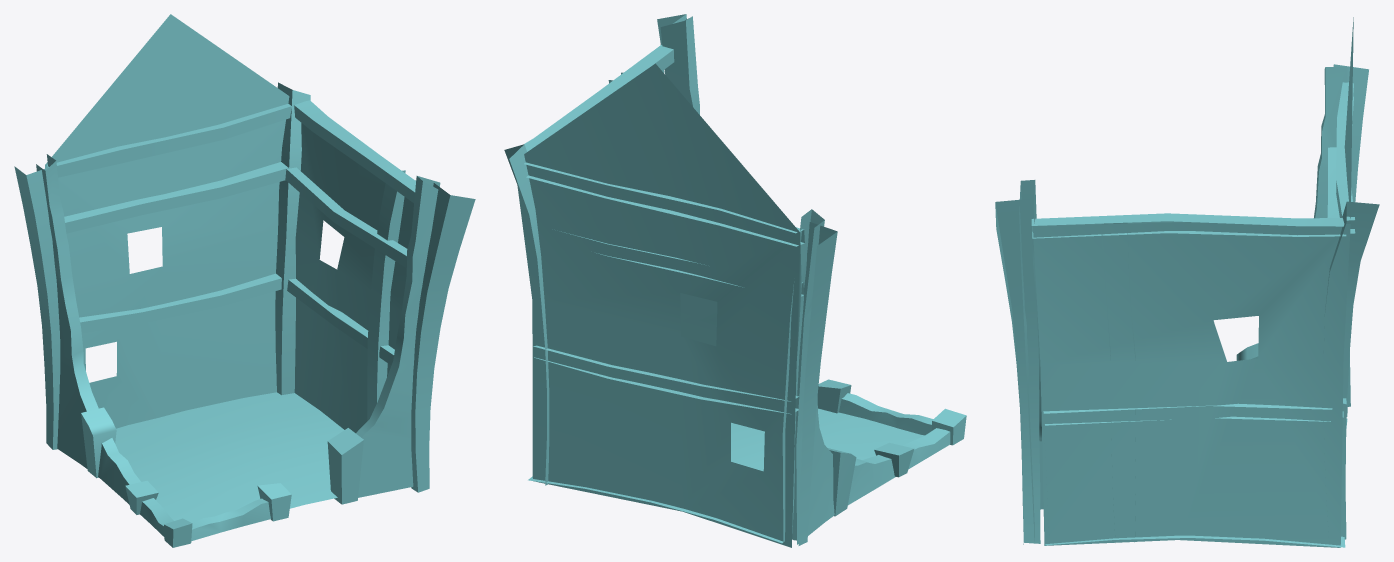
Rendered from walls.fbx.
3 renders of one model, left to right at view 1: azimuth 30°, elevation 25°; view 2: azimuth 150°, elevation 25°; view 3: azimuth 270°, elevation 25°, orthographic. The views are drawn at different scales.
Parts seen in each view (by area): view 1: walls; view 2: walls; view 3: walls.
Part boxes in pixels (x1,y1,x2,y2): walls: (14, 14, 475, 547); walls: (504, 14, 966, 547); walls: (995, 17, 1379, 547).
Size of the model in its own units: 575 by 728 by 538.
